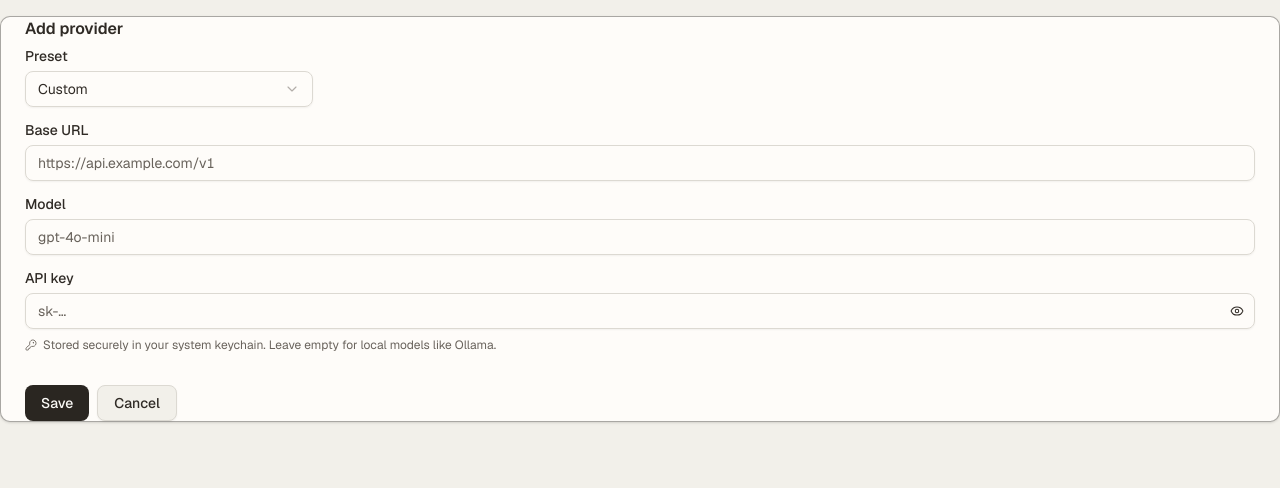
Test: ProviderForm › shows inline errors for missing URL and model and does not save
The image size is (1280, 488).
Step 1. Click the button "Save" → (57, 403), box [25,385,89,421]
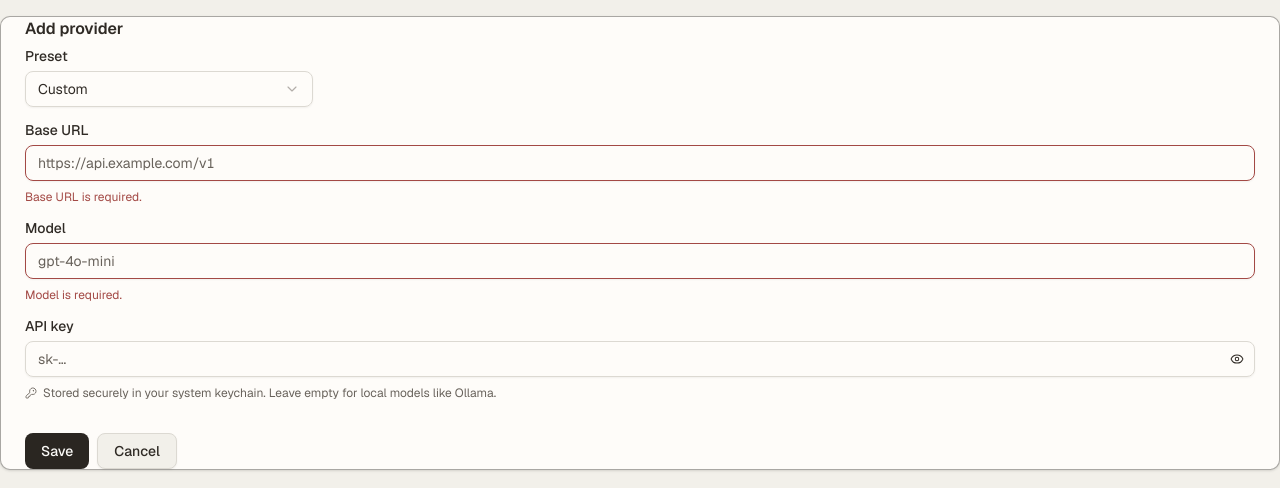
Now the text "Base URL is required." is shown, box [25,189,142,205]
Now the text "Model is required." is shown, box [25,287,122,303]
